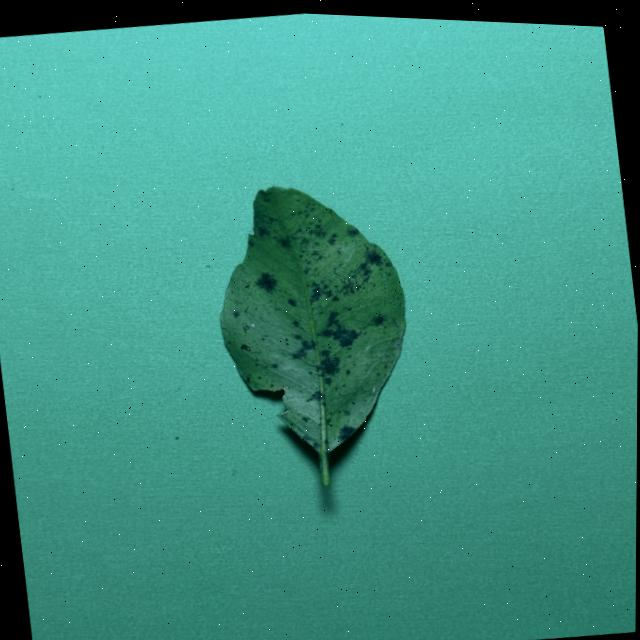sooty_mold: (221, 187, 405, 484)
